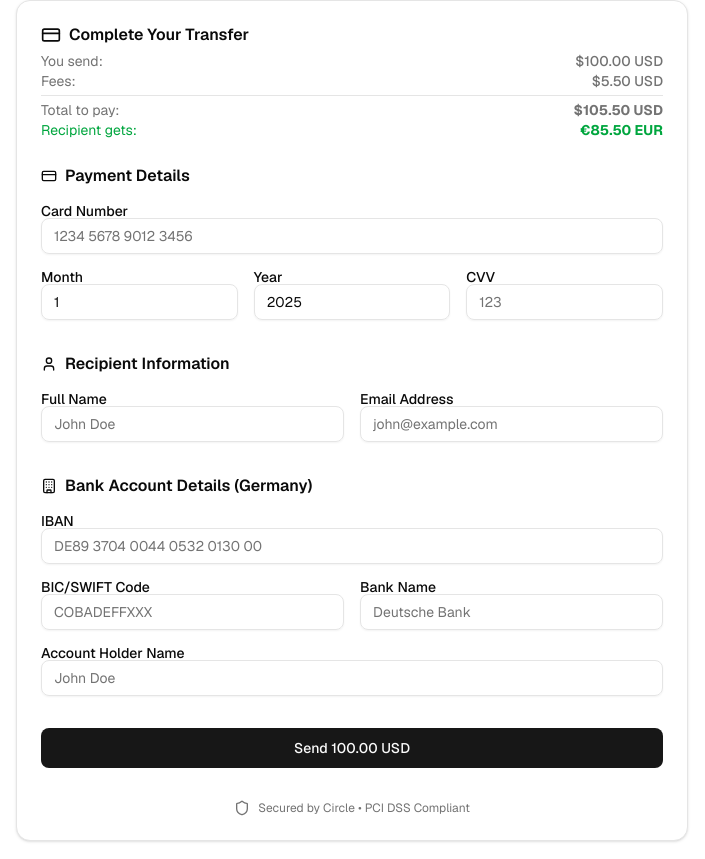
it: PaymentForm › formats IBAN with spaces
Step 1. Type "DE89370400440532013000" into the field labelled "IBAN" → (352, 546), box [41,528,663,564]
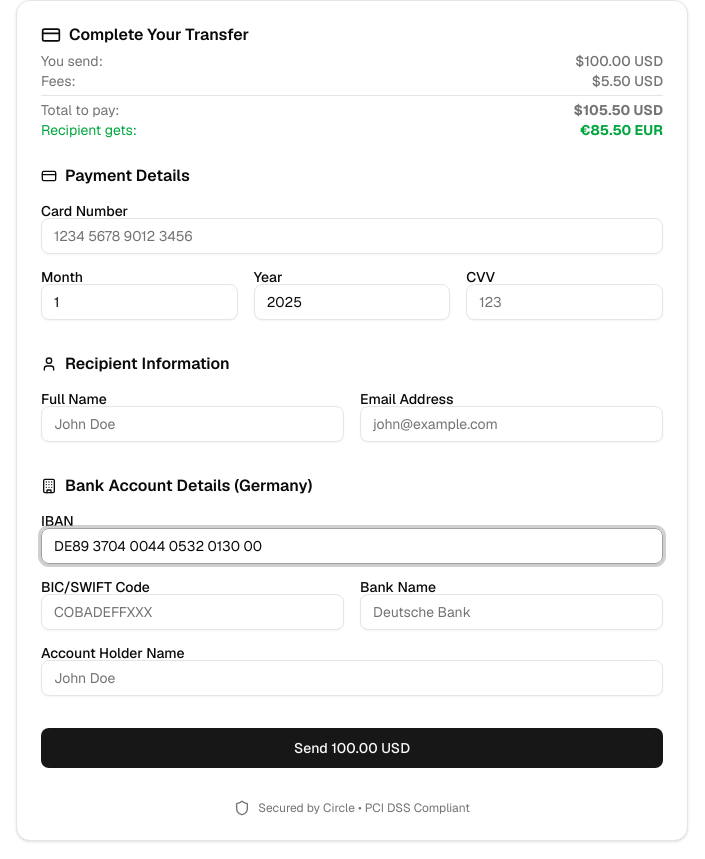
Expected: the field labelled "IBAN" holds "DE89 3704 0044 0532 0130 00", [41,528,663,564]
